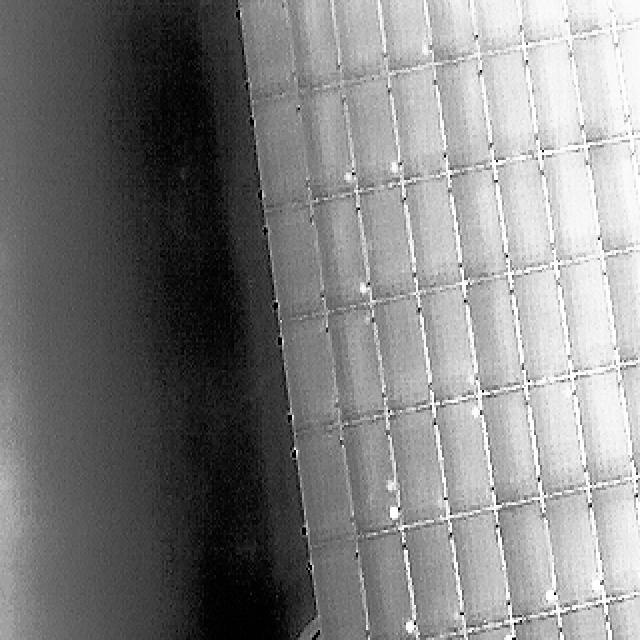Hotspots: (400, 614, 419, 638), (589, 573, 606, 596), (542, 586, 560, 605), (634, 560, 640, 585)
PV-modules: (564, 367, 636, 488), (292, 428, 363, 548), (475, 385, 545, 506), (550, 259, 621, 378), (492, 499, 560, 622), (520, 379, 592, 495), (536, 147, 606, 266), (428, 400, 498, 519), (449, 510, 518, 630), (462, 276, 530, 397), (322, 304, 390, 425), (308, 196, 376, 317), (386, 408, 453, 530), (540, 492, 608, 612), (400, 520, 468, 640), (489, 156, 558, 274), (507, 265, 577, 381), (563, 28, 633, 144), (368, 296, 436, 415), (276, 316, 344, 434), (474, 50, 543, 166), (416, 285, 483, 404), (261, 203, 328, 322), (340, 78, 408, 195), (294, 86, 362, 203), (448, 163, 514, 283), (522, 36, 590, 152), (401, 174, 468, 291), (340, 418, 404, 540), (354, 185, 420, 302), (352, 527, 420, 640), (388, 68, 453, 185), (432, 60, 496, 175), (306, 537, 376, 640), (582, 480, 640, 602), (249, 94, 311, 208), (582, 140, 640, 255), (235, 1, 299, 104), (278, 1, 344, 95), (322, 0, 392, 82), (598, 245, 640, 363), (366, 0, 434, 72), (413, 0, 482, 62), (460, 0, 529, 55), (610, 20, 640, 135), (612, 358, 640, 478), (514, 0, 574, 45), (552, 602, 622, 640), (558, 0, 616, 37), (600, 590, 640, 640), (510, 615, 580, 640), (626, 130, 640, 248), (460, 622, 532, 640), (604, 0, 640, 28), (636, 475, 640, 597), (414, 635, 484, 640)
